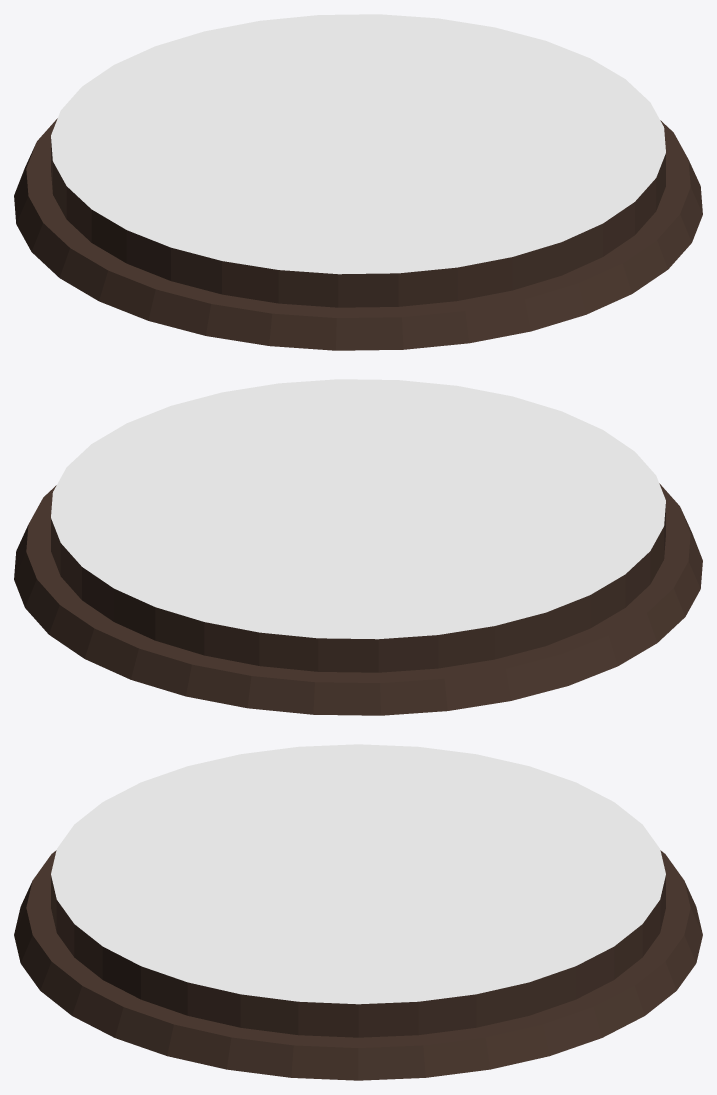
The model's file is VerMana03.glb.
3 renders of one model, top to bottom at view 1: azimuth 30°, elevation 25°; view 2: azimuth 150°, elevation 25°; view 3: azimuth 270°, elevation 25°, orthographic.
Visible parts, largest first — view 1: VerMana03; view 2: VerMana03; view 3: VerMana03.
Boxes of the visible parts, left/top/right/bottom form: VerMana03: left=14, top=14, right=702, bottom=350; VerMana03: left=14, top=379, right=702, bottom=715; VerMana03: left=14, top=744, right=702, bottom=1080.
Bounding box in the file's own units: 3.08 × 0.3 × 3.08.
